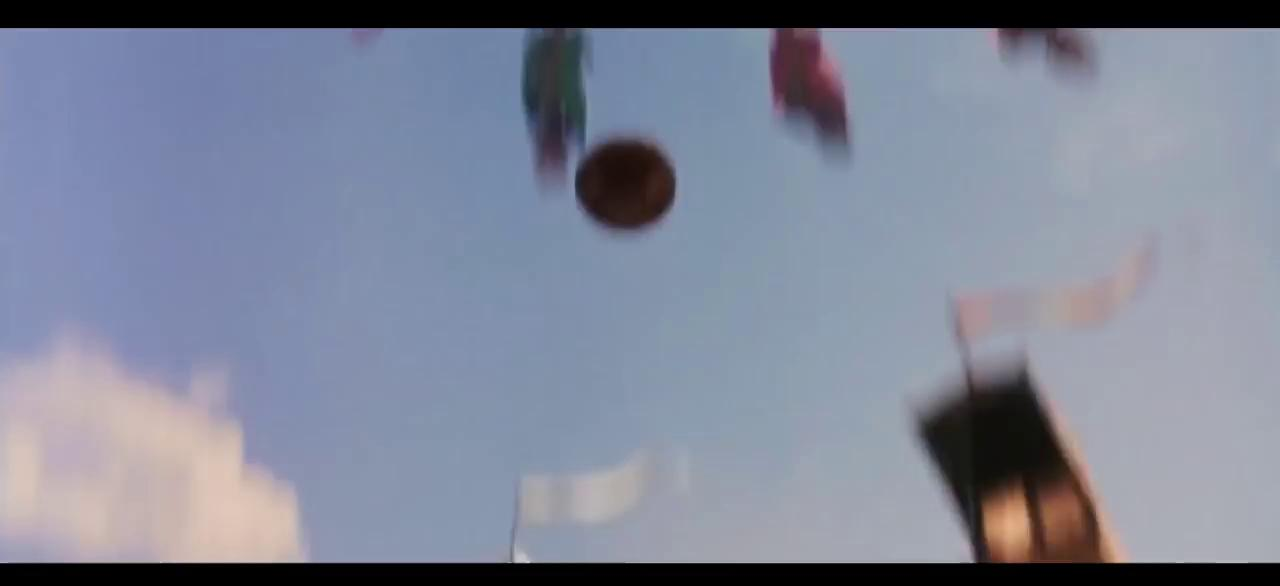quaffle: (571, 143, 676, 229)
